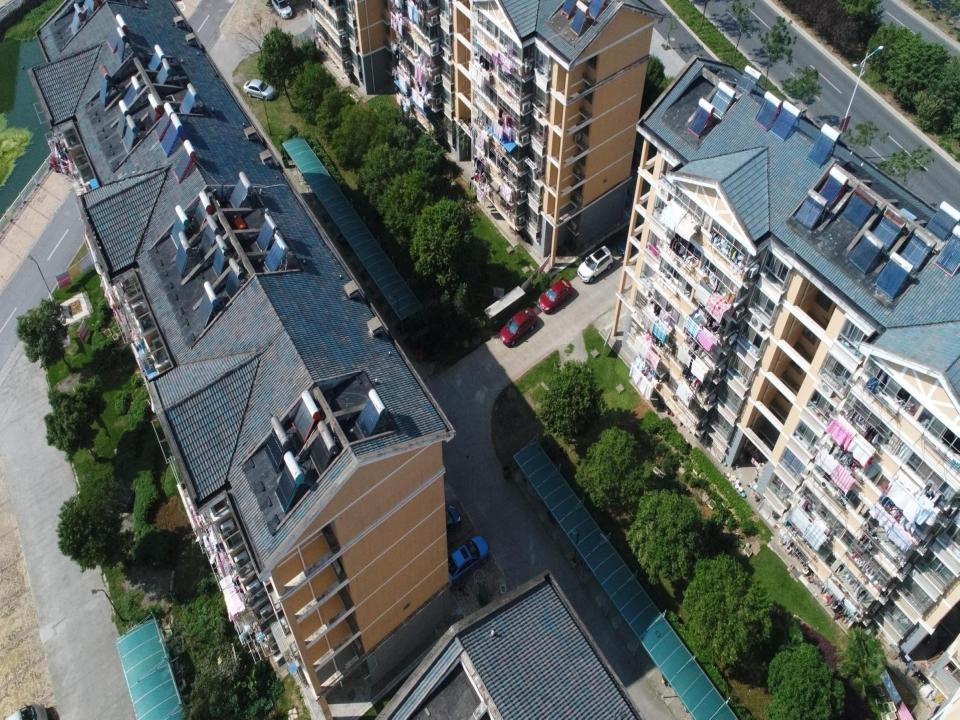car: (440, 535, 490, 587), (499, 306, 537, 347), (420, 506, 462, 539), (577, 246, 613, 284), (538, 278, 572, 313), (242, 78, 277, 102), (617, 230, 642, 258), (49, 154, 78, 176), (269, 0, 293, 20)
